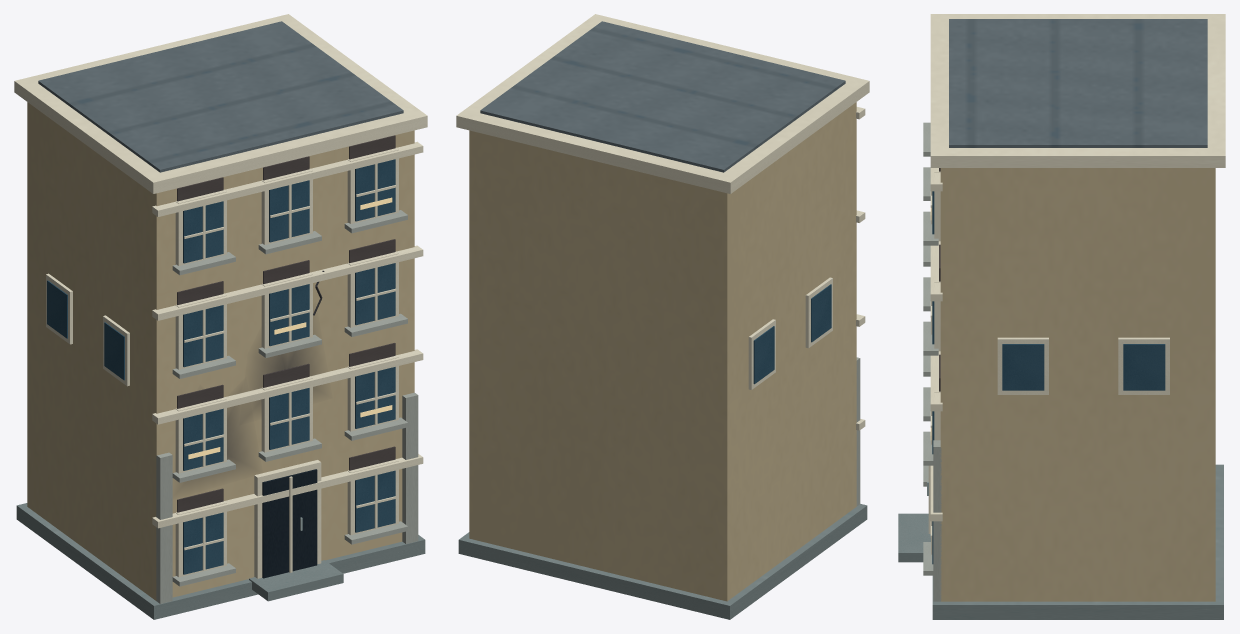
File: apartment-scorched-lod.glb
3 renders of one model, left to right at view 1: azimuth 30°, elevation 25°; view 2: azimuth 150°, elevation 25°; view 3: azimuth 270°, elevation 25°, orthographic. The views are drawn at different scales.
Visible parts, largest first — view 1: apartment-scorched-lod; view 2: apartment-scorched-lod; view 3: apartment-scorched-lod.
Boxes of the visible parts, x1,y1,x2,y2 form: apartment-scorched-lod: (14, 14, 427, 619); apartment-scorched-lod: (456, 14, 869, 619); apartment-scorched-lod: (898, 14, 1225, 619).
Bounding box in the file's own units: 5.74 × 8.82 × 5.6.
5 materials, 5 textured.
